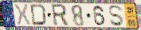6: (92, 5, 106, 27)
8: (71, 4, 86, 27)
D: (30, 3, 48, 27)
R: (50, 4, 70, 27)
S: (107, 5, 125, 28)
X: (14, 3, 32, 27)
